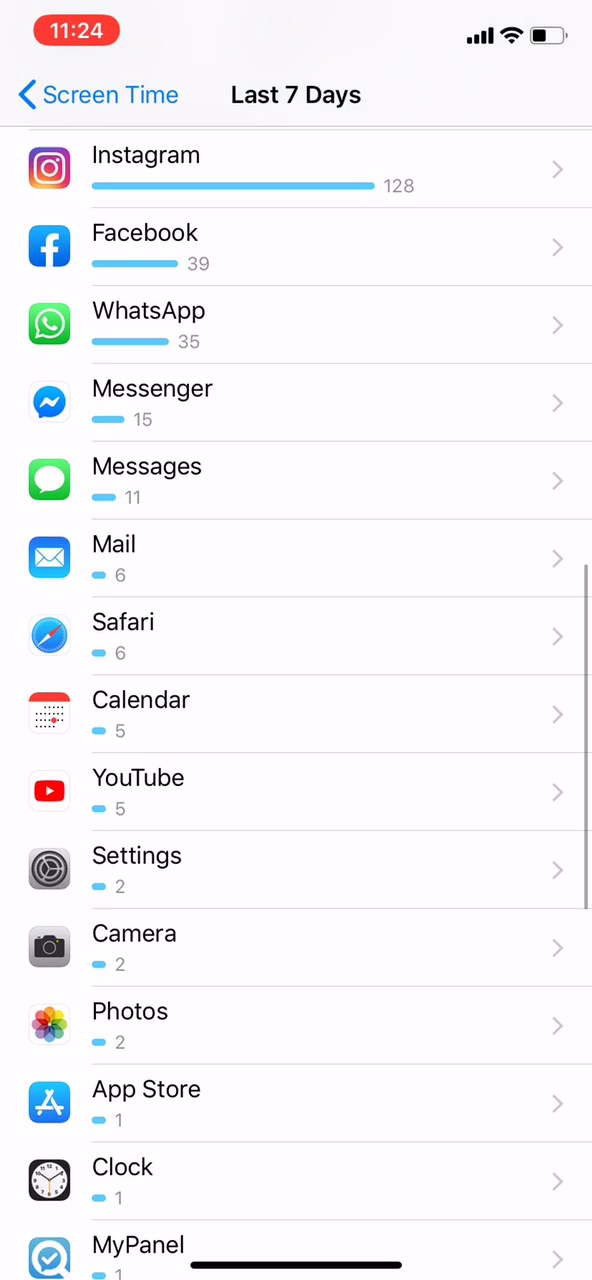pick_app: (17, 135, 461, 205), (18, 755, 243, 827), (11, 444, 225, 519), (20, 211, 237, 282), (18, 917, 239, 985), (22, 289, 234, 358), (15, 838, 239, 902), (17, 608, 234, 674), (23, 1071, 234, 1136), (20, 374, 254, 432), (14, 688, 239, 747), (23, 530, 214, 599), (20, 1000, 220, 1063), (23, 1147, 212, 1211)
week: (219, 79, 374, 118)
